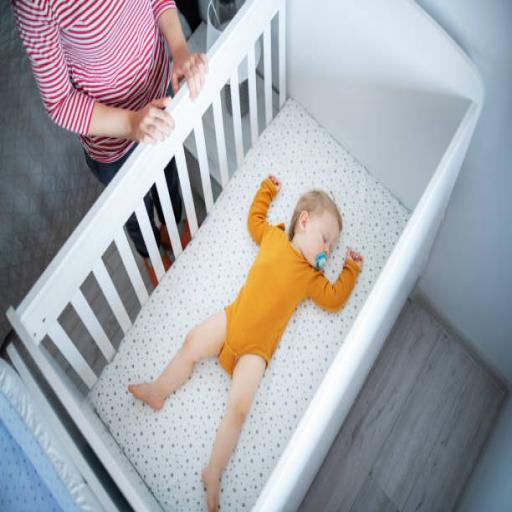baby: (128, 176, 363, 511)
crib: (8, 0, 483, 510)
